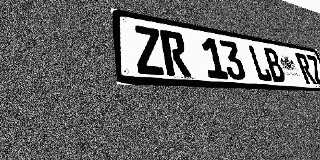1: (199, 36, 229, 79)
3: (219, 40, 247, 80)
B: (262, 47, 287, 83)
L: (247, 44, 273, 82)
R: (159, 29, 191, 77), (294, 53, 317, 85)
Z: (132, 25, 166, 76), (305, 54, 320, 85)
